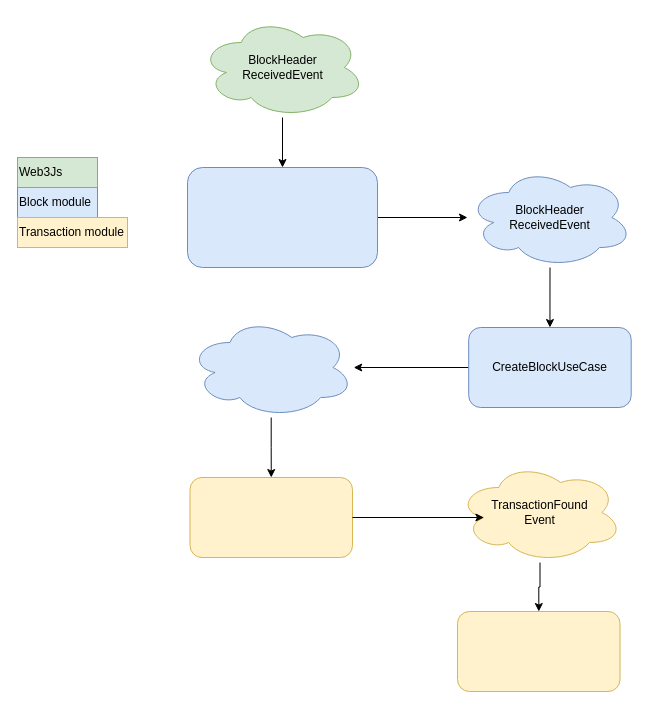
Some shapes in this 650 by 709 pixel diagram are drawn without their labels. Each missing label, with the centre of its shape:
BlockCreatedEvent: pixel 271 367
CreateChiliz Transaction UseCase: pixel 538 651
FindChilizTransactions UseCase: pixel 270 517
Web3BlockSubscriptionService: pixel 282 217
